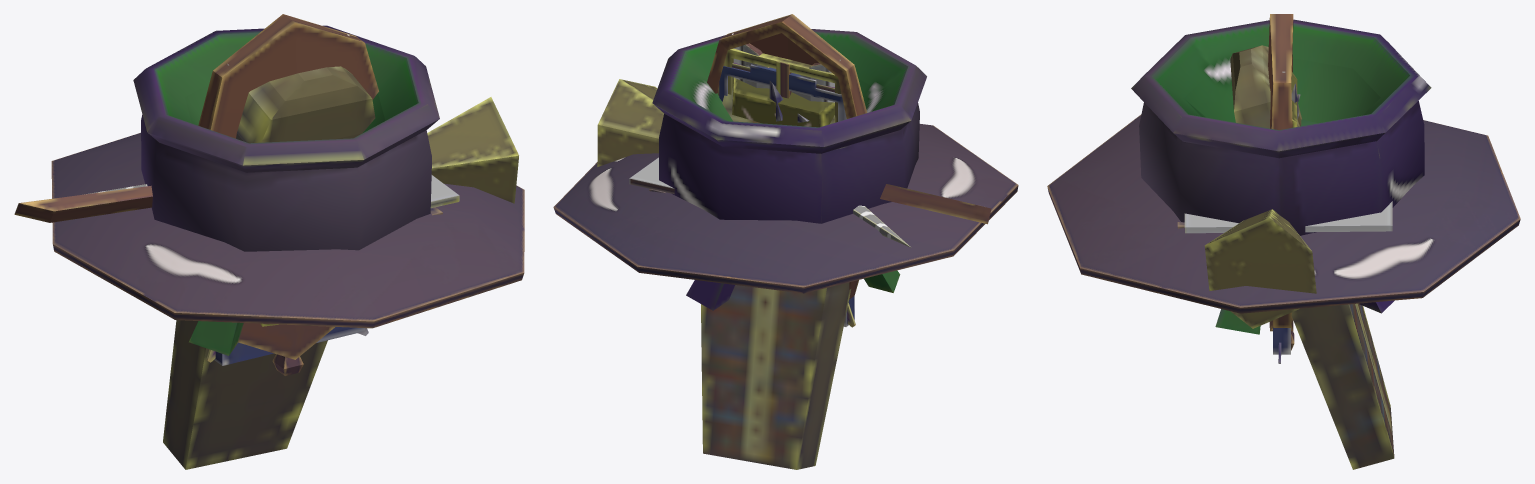
File: items.glb
3 views of the same model, side by side, from view 1: azimuth 30°, elevation 25°; view 2: azimuth 150°, elevation 25°; view 3: azimuth 270°, elevation 25° (orthographic). The views are drawn at different scales.
Parts seen in each view (by area): view 1: ufo, kettle, faraon, Cube.001, broom, Cube, paper; view 2: kettle, ufo, faraon, broom, Cube.001, shield, Cube, Cube.002, axe, paper, unicorn_corn; view 3: kettle, ufo, faraon, broom, Cube.001, paper.
Boxes of the visible parts, <box> form: ufo: <box>51,132,524,328</box>; kettle: <box>133,25,439,355</box>; faraon: <box>163,66,375,469</box>; Cube.001: <box>198,14,378,359</box>; broom: <box>14,97,518,222</box>; Cube: <box>214,327,364,365</box>; paper: <box>430,175,459,208</box>; kettle: <box>652,29,926,310</box>; ufo: <box>553,124,1018,293</box>; faraon: <box>701,86,851,469</box>; broom: <box>597,79,991,224</box>; Cube.001: <box>707,14,867,299</box>; shield: <box>718,62,834,127</box>; Cube: <box>719,64,854,326</box>; Cube.002: <box>724,48,841,122</box>; axe: <box>731,33,840,102</box>; paper: <box>629,157,674,194</box>; unicorn_corn: <box>853,205,911,247</box>; kettle: <box>1131,19,1431,334</box>; ufo: <box>1047,114,1520,313</box>; faraon: <box>1230,45,1394,469</box>; broom: <box>1204,209,1316,328</box>; Cube.001: <box>1268,14,1293,331</box>; paper: <box>1184,201,1392,233</box>.
Bounding box in the file's own units: 5.49 × 5.27 × 5.14.
Materials: 1 (1 with a texture image).
